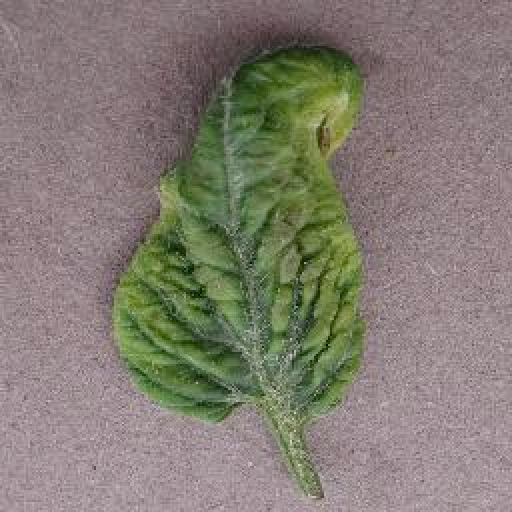disease_tomato: (109, 42, 371, 422)
